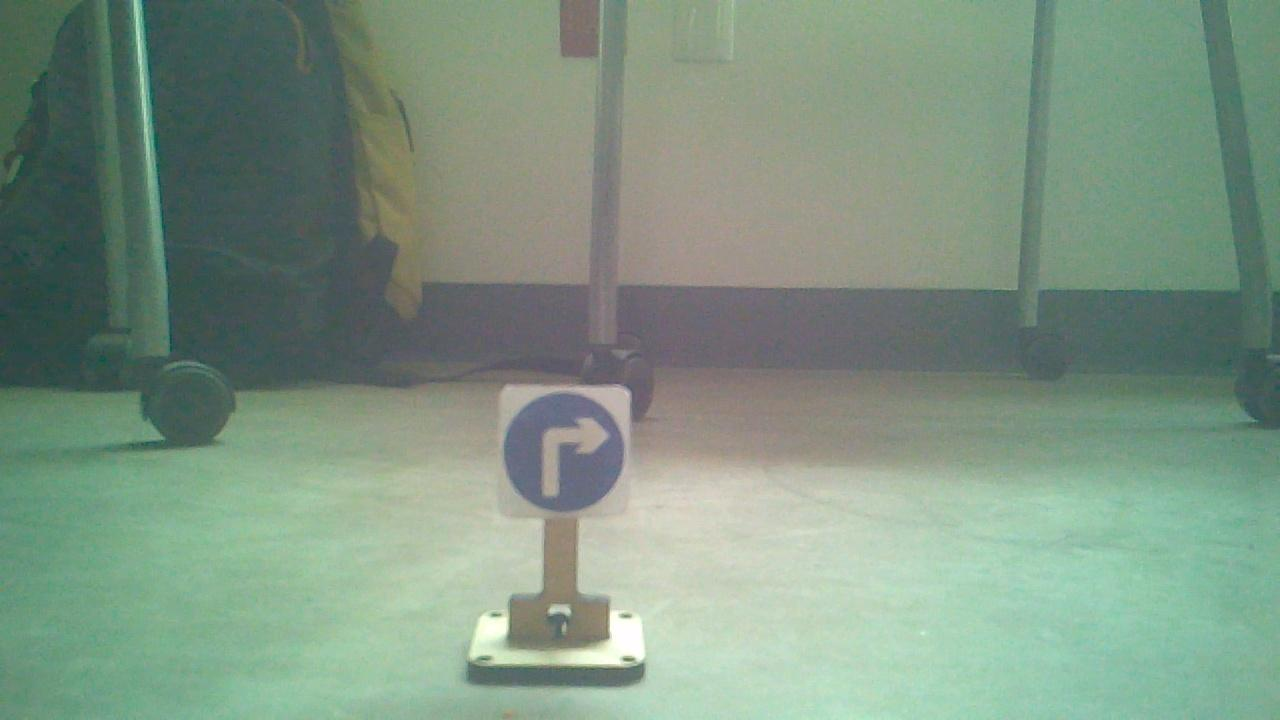turn: (499, 390, 634, 513)
